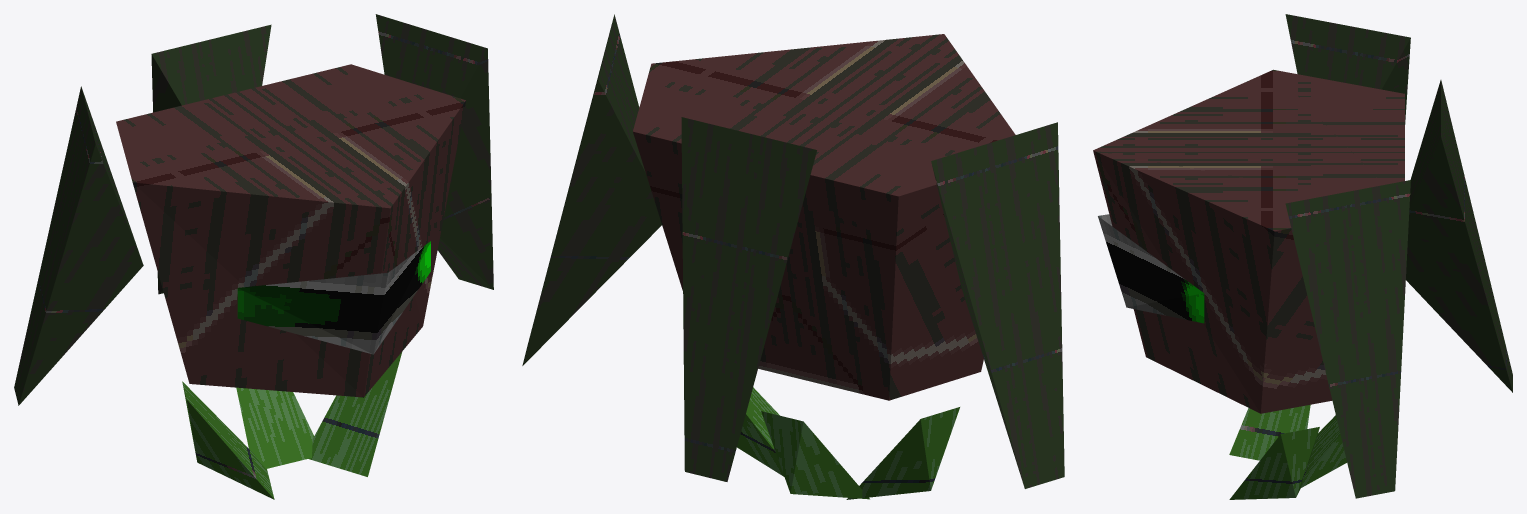
Rendered from model_066_robot.glb.
3 views of the same model, side by side, from view 1: azimuth 30°, elevation 25°; view 2: azimuth 150°, elevation 25°; view 3: azimuth 270°, elevation 25° (orthographic). The views are drawn at different scales.
Visible parts, largest first — view 1: model_066; view 2: model_066; view 3: model_066.
Part boxes in pixels (left/top/right/bottom): model_066: left=14, top=14, right=493, bottom=499; model_066: left=522, top=14, right=1064, bottom=499; model_066: left=1093, top=14, right=1512, bottom=499.
Size of the model in its own units: 7.99 by 5.97 by 6.17.
4 materials, 4 textured.
